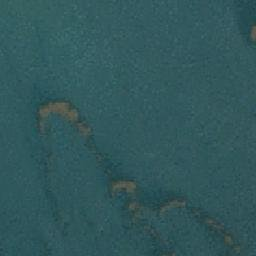debris: (35, 96, 90, 139), (205, 216, 240, 251), (106, 177, 139, 211), (157, 198, 188, 217)
